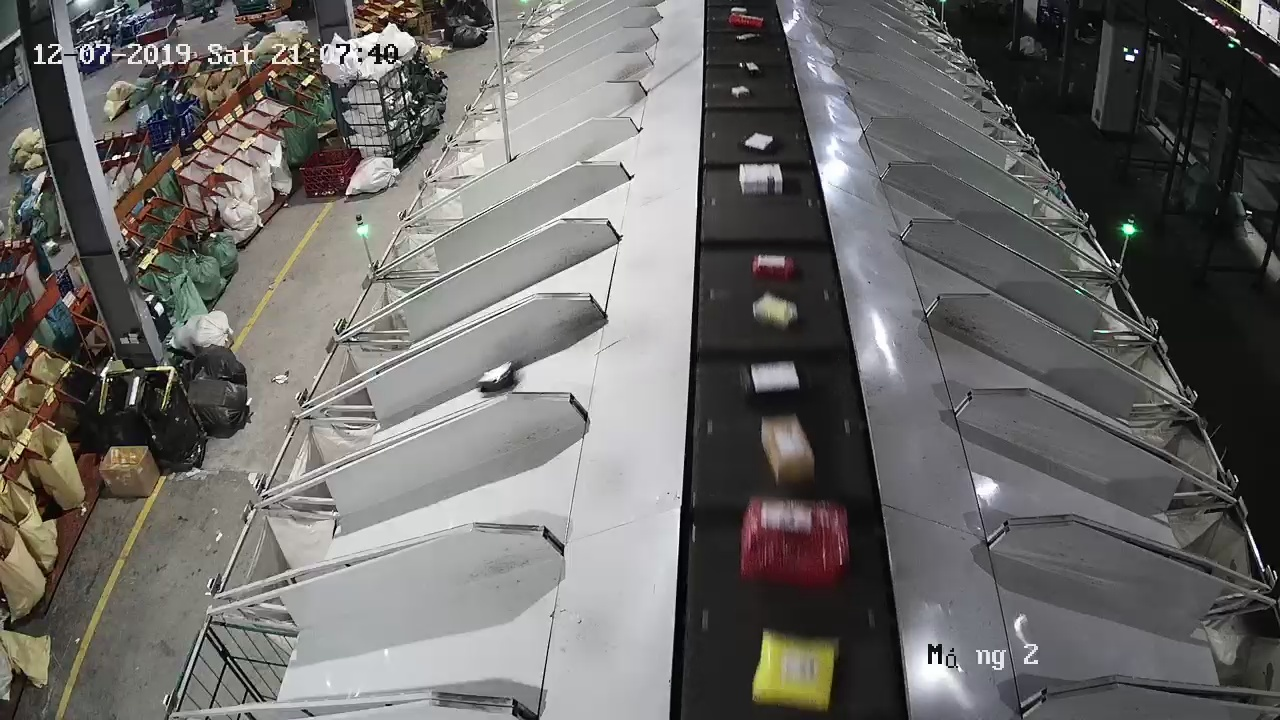parcel: (477, 361, 517, 392)
